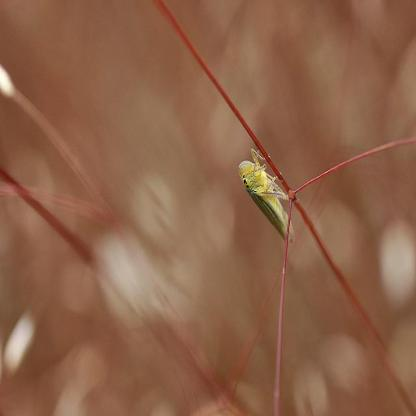Green-Leafhopper: (236, 150, 303, 247)
